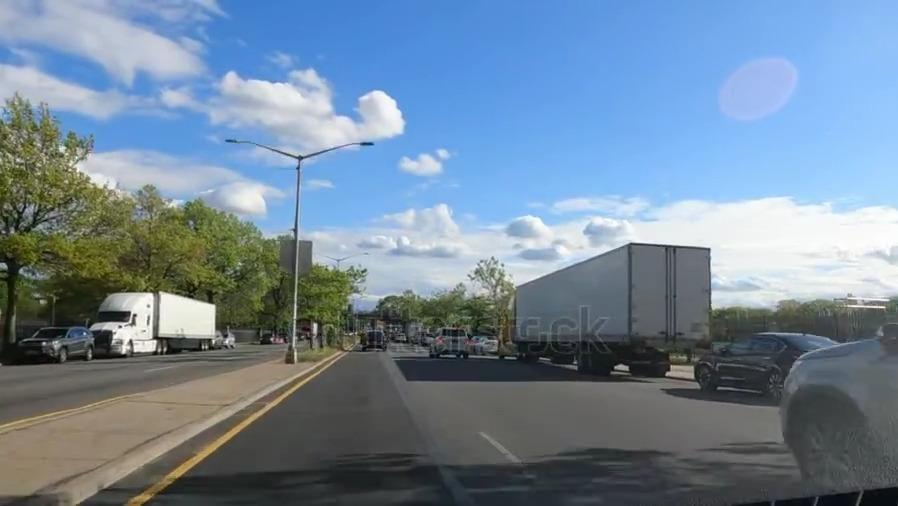car: (783, 328, 898, 490), (698, 336, 830, 390), (22, 327, 93, 362), (431, 326, 468, 359), (363, 331, 385, 352), (478, 335, 497, 353), (259, 329, 276, 345), (222, 332, 234, 349), (212, 330, 222, 348), (471, 335, 479, 351)
truck: (504, 248, 710, 351), (97, 293, 217, 360)
wheel: (795, 401, 862, 486)
